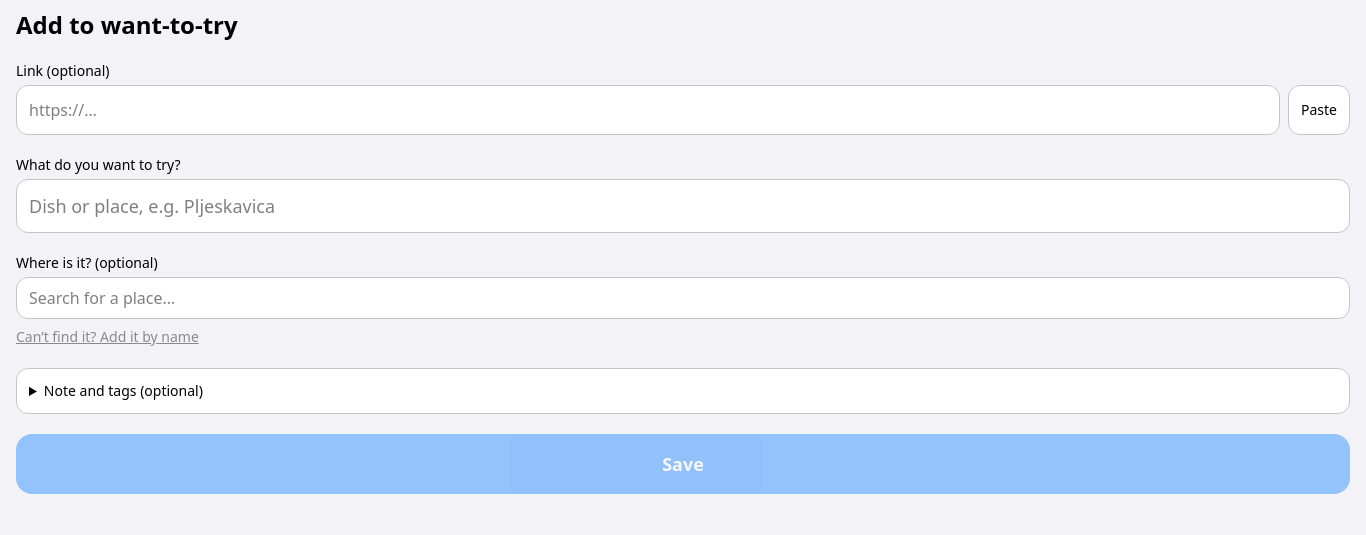
Test: adding to want-to-try › blocks saving a link that is not http(s)
This screenshot has width=1366, height=535.
In the field labelled "What do you want to try?": [683, 206] box left=16, top=179, right=1350, bottom=233, type "Burek"
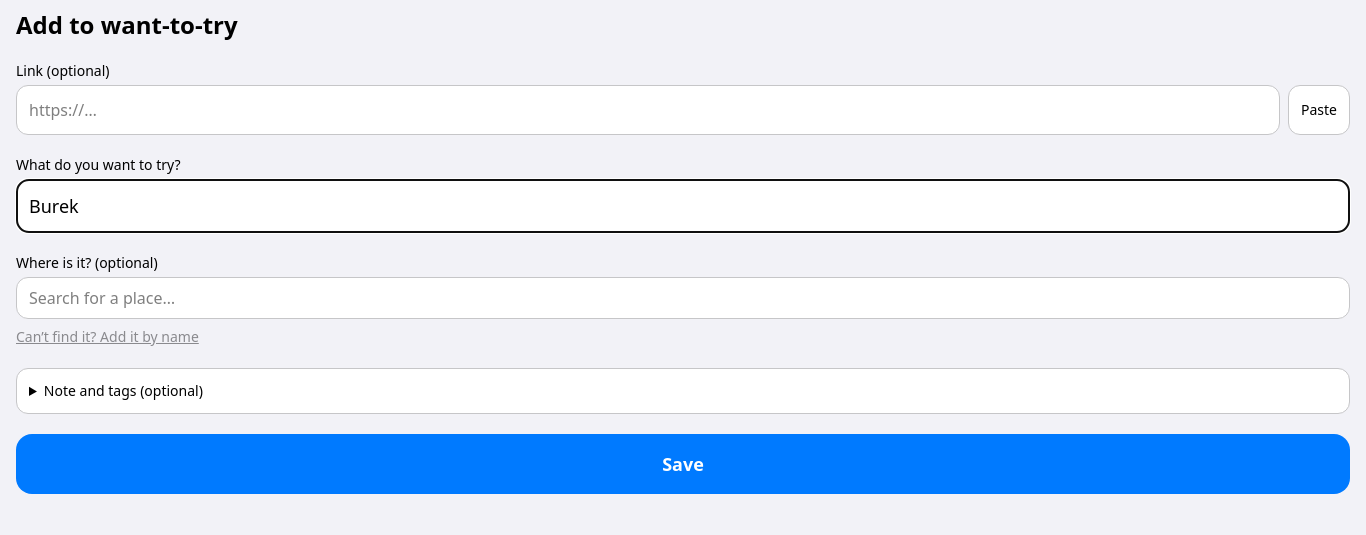
In the field labelled "Link (optional)": [648, 110] box left=16, top=85, right=1280, bottom=135, type "javascript:alert(1)"
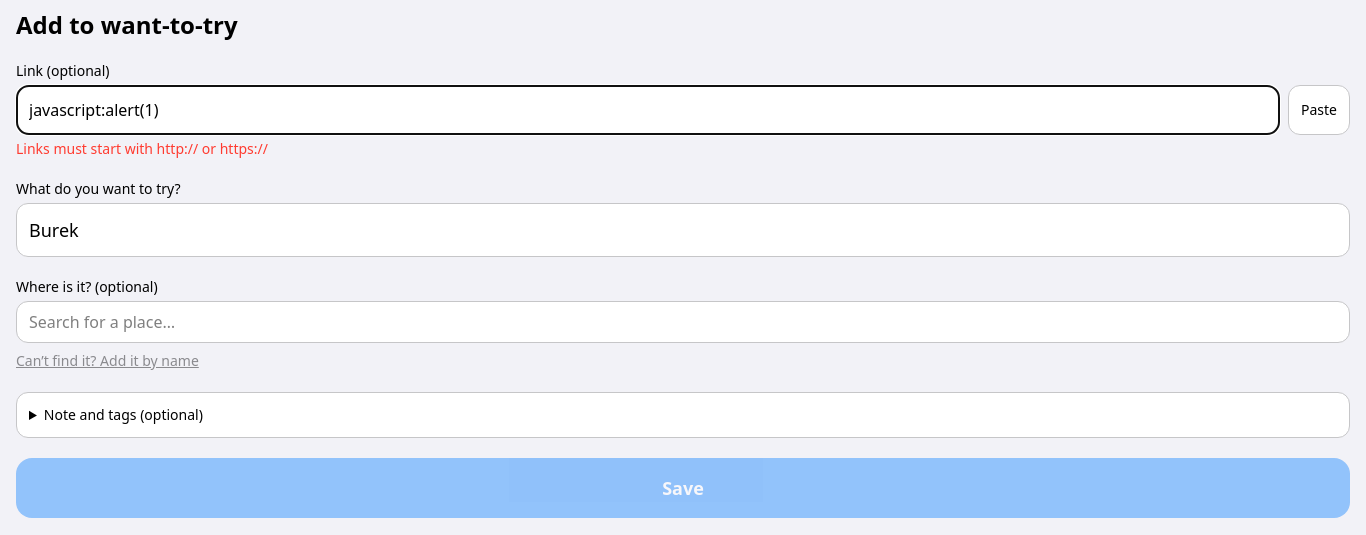
Result: the message shows "http" at left=16, top=139, right=268, bottom=158
Result: the button "Save" is disabled at left=16, top=458, right=1350, bottom=518
